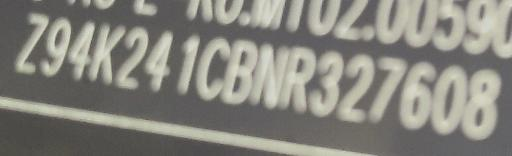letter: (459, 68, 503, 139), (364, 56, 408, 126), (338, 50, 378, 122), (248, 41, 292, 105), (394, 60, 436, 127), (306, 47, 346, 117), (276, 44, 318, 110), (432, 64, 470, 136), (194, 34, 234, 100), (86, 23, 126, 84), (220, 38, 258, 102), (11, 12, 49, 75), (114, 24, 150, 88), (142, 28, 178, 91), (168, 33, 204, 93), (38, 17, 72, 76), (64, 20, 98, 79)
